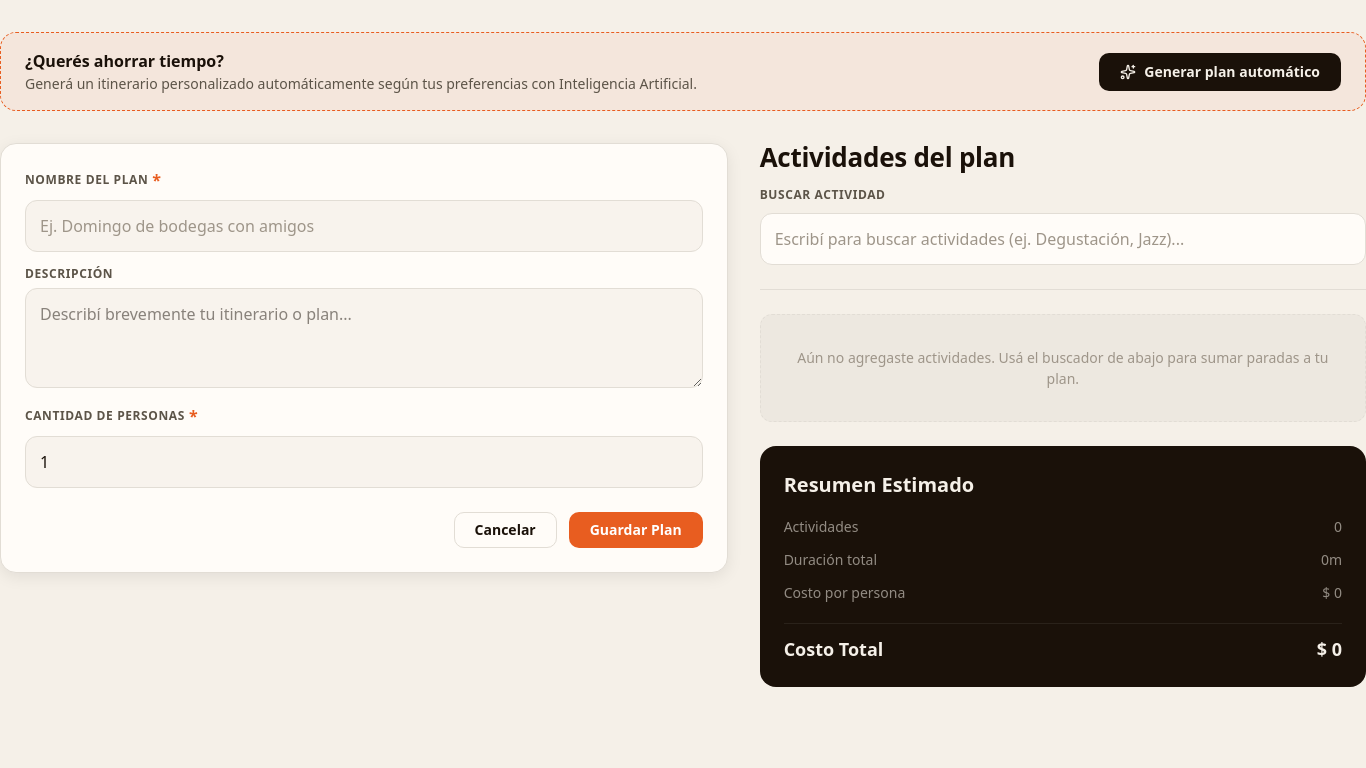
CreatePlanForm (CU24) › displays under-construction modal when automatic plan button is clicked (CU31)
Click the button "Generar plan automático".
click(1220, 72)  # box [1099,52,1341,90]
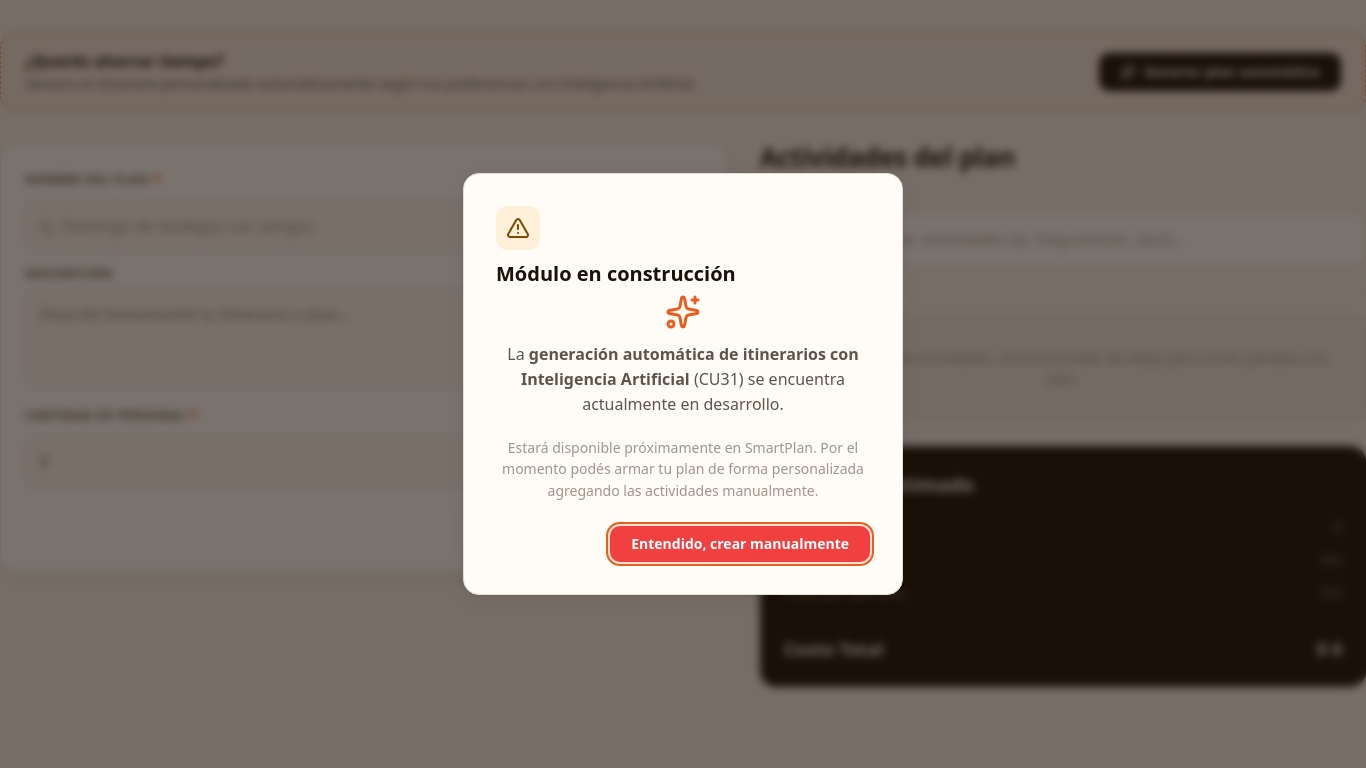
Expected: the dialog "Módulo en construcción" is shown, [463,173,903,595]
Expected: the text "generación automática de itinerarios" is shown, [521,343,859,390]
Click the button "Entendido, crear manualmente".
click(740, 544)  # box [610,526,870,562]
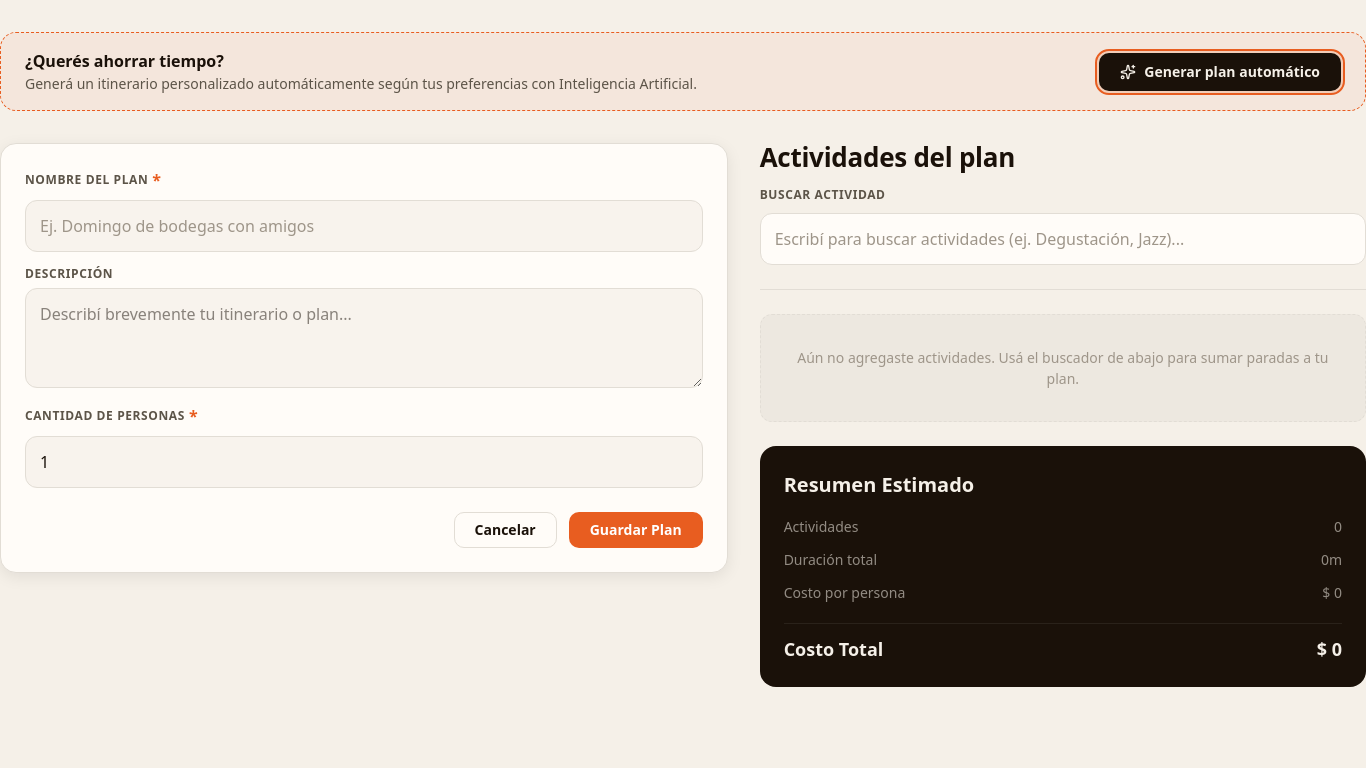
Expected: the dialog is gone
